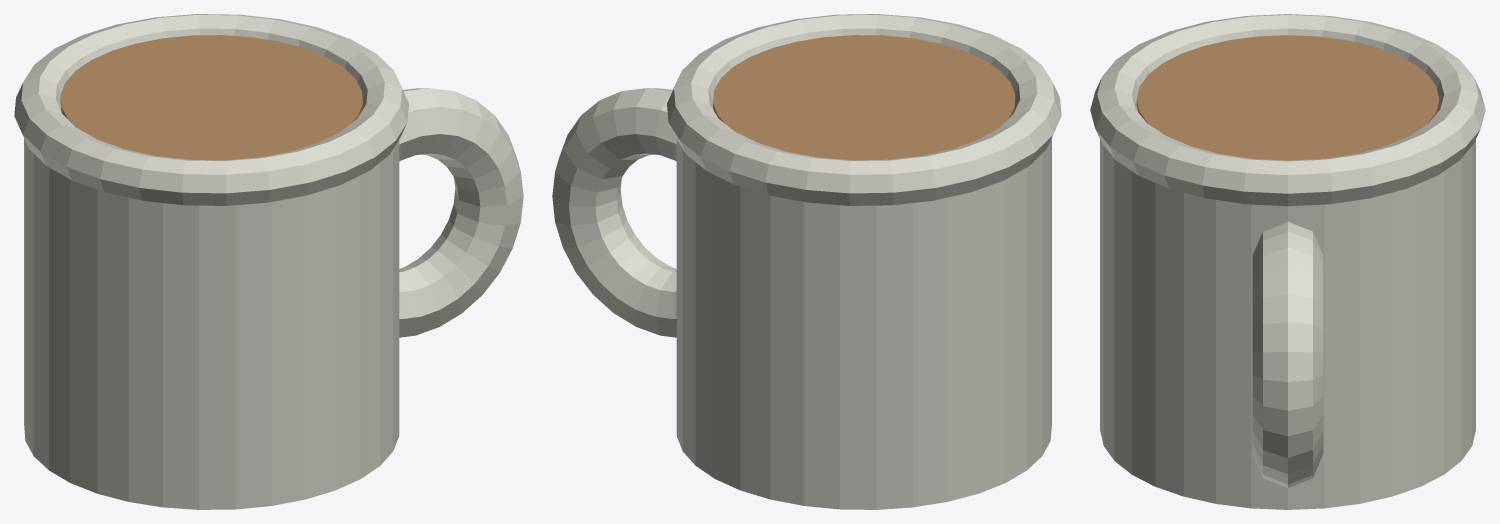
The model's file is cup.glb.
3 renders of one model, left to right at view 1: azimuth 30°, elevation 25°; view 2: azimuth 150°, elevation 25°; view 3: azimuth 270°, elevation 25°, orthographic.
Visible parts, largest first — view 1: Coffee transferable cup / cup, Coffee transferable cup / lip, Coffee transferable cup / coffee, Coffee transferable cup / handle; view 2: Coffee transferable cup / cup, Coffee transferable cup / lip, Coffee transferable cup / coffee, Coffee transferable cup / handle; view 3: Coffee transferable cup / cup, Coffee transferable cup / lip, Coffee transferable cup / coffee, Coffee transferable cup / handle.
Part boxes in pixels (x1,y1,x2,y2): Coffee transferable cup / cup: (24, 138, 399, 509); Coffee transferable cup / lip: (14, 14, 408, 205); Coffee transferable cup / coffee: (60, 35, 362, 160); Coffee transferable cup / handle: (399, 88, 523, 337); Coffee transferable cup / cup: (676, 138, 1051, 509); Coffee transferable cup / lip: (667, 14, 1061, 205); Coffee transferable cup / coffee: (713, 35, 1015, 160); Coffee transferable cup / handle: (552, 88, 676, 337); Coffee transferable cup / cup: (1100, 139, 1475, 509); Coffee transferable cup / lip: (1090, 14, 1485, 206); Coffee transferable cup / coffee: (1136, 35, 1439, 160); Coffee transferable cup / handle: (1252, 222, 1323, 488).
Bounding box in the file's own units: 0.501 × 0.342 × 0.358.
